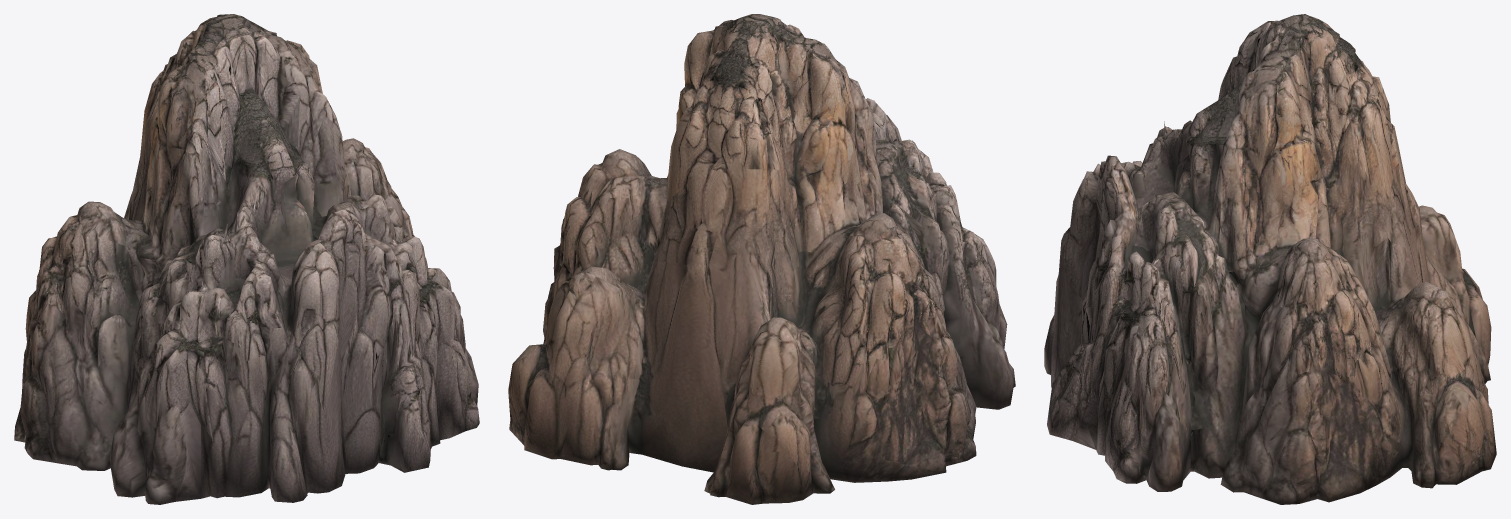
The model's file is rock-peak.glb.
3 renders of one model, left to right at view 1: azimuth 30°, elevation 25°; view 2: azimuth 150°, elevation 25°; view 3: azimuth 270°, elevation 25°, orthographic. The views are drawn at different scales.
Parts seen in each view (by area): view 1: Landscape asset / rock-peak; view 2: Landscape asset / rock-peak; view 3: Landscape asset / rock-peak.
Part boxes in pixels (bbox=[...]): Landscape asset / rock-peak: bbox=[14, 14, 479, 504]; Landscape asset / rock-peak: bbox=[508, 14, 1015, 504]; Landscape asset / rock-peak: bbox=[1044, 14, 1496, 504].
Size of the model in its own units: 1 by 0.8973 by 0.9521.
Materials: 1 (1 with a texture image).
